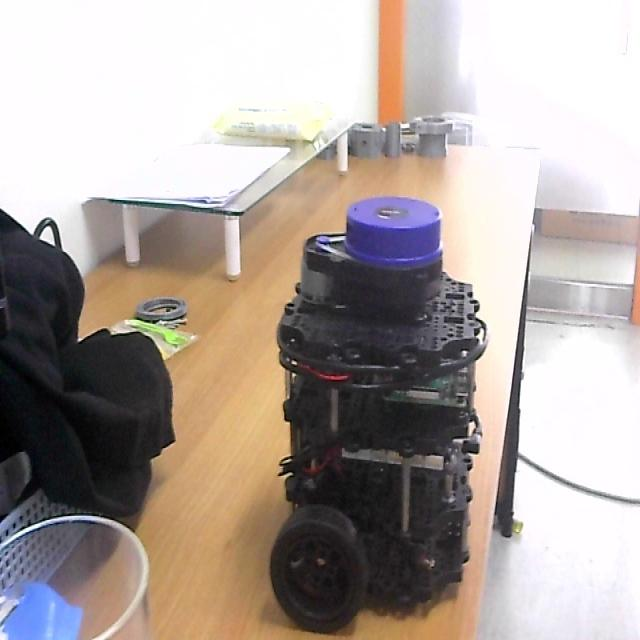turtle: (268, 192, 491, 639)
